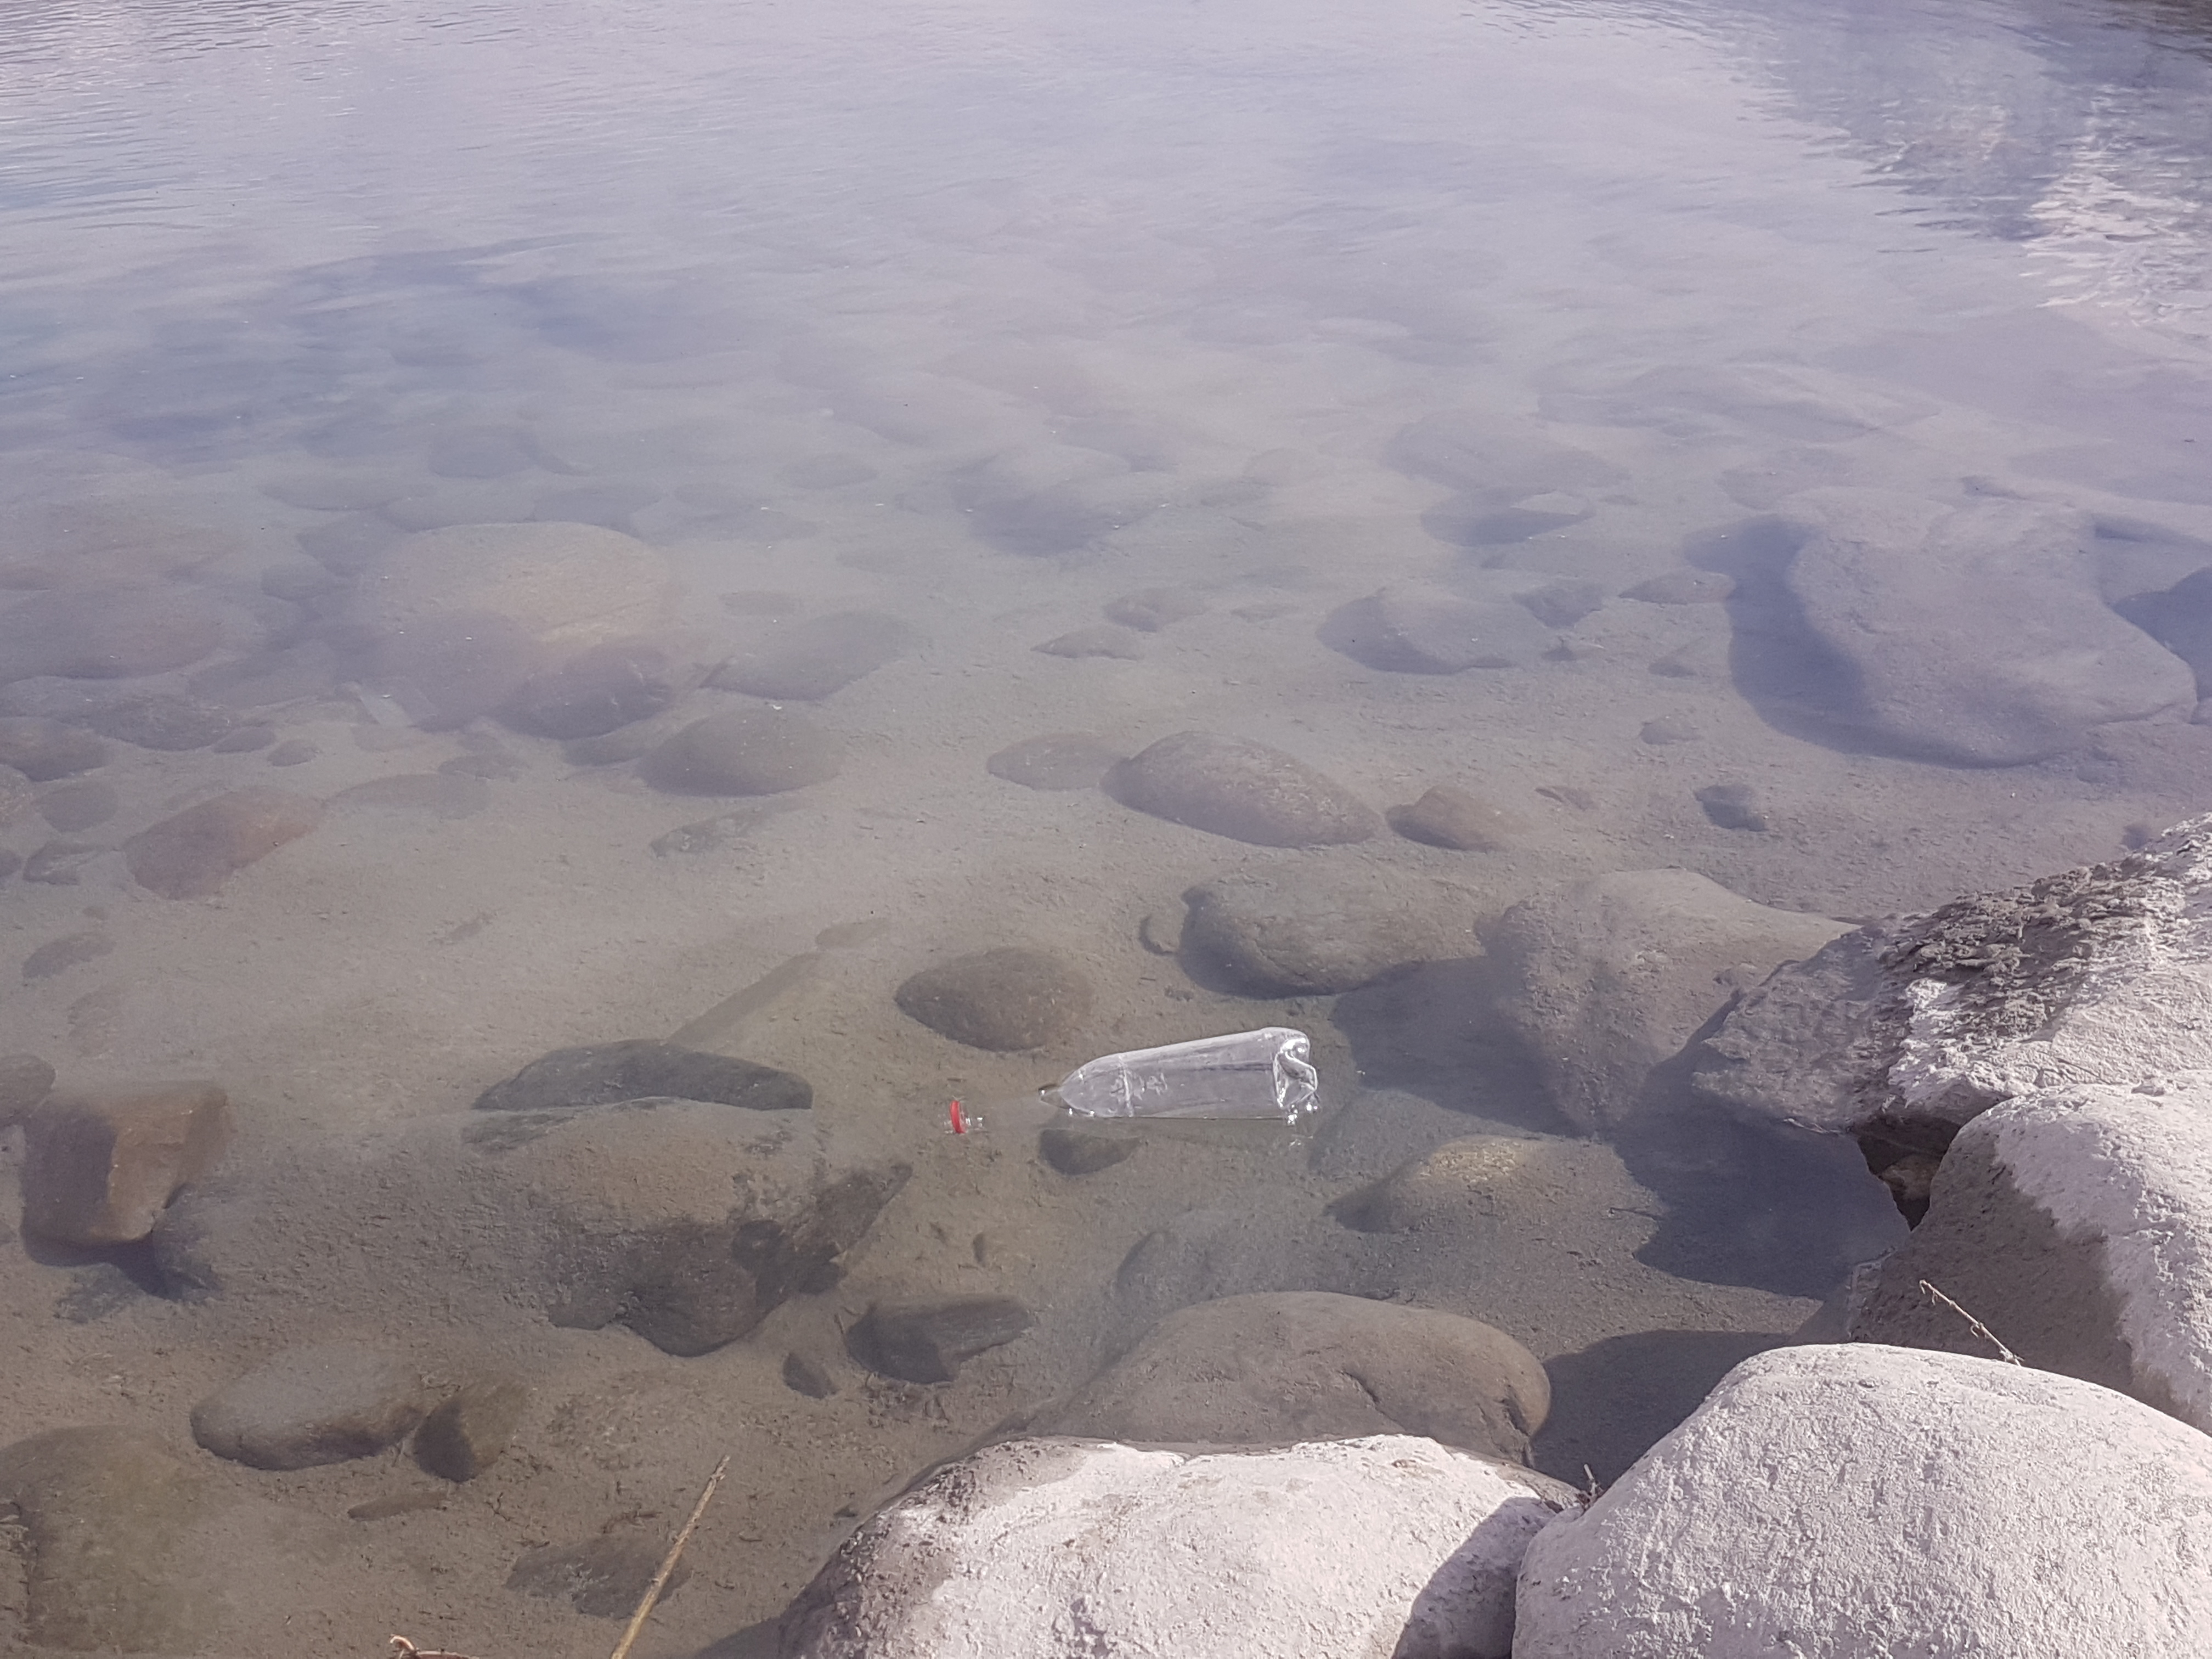Plastic Bottle: (939, 1026, 1322, 1138)
